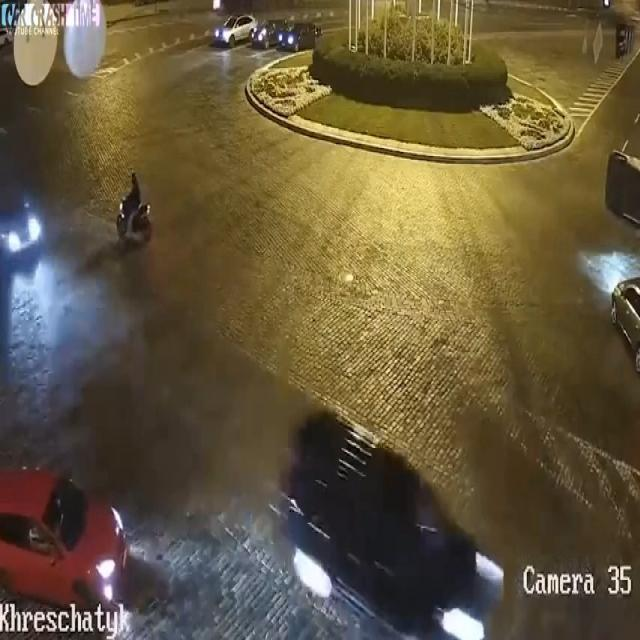Accident: (603, 111, 640, 267)
